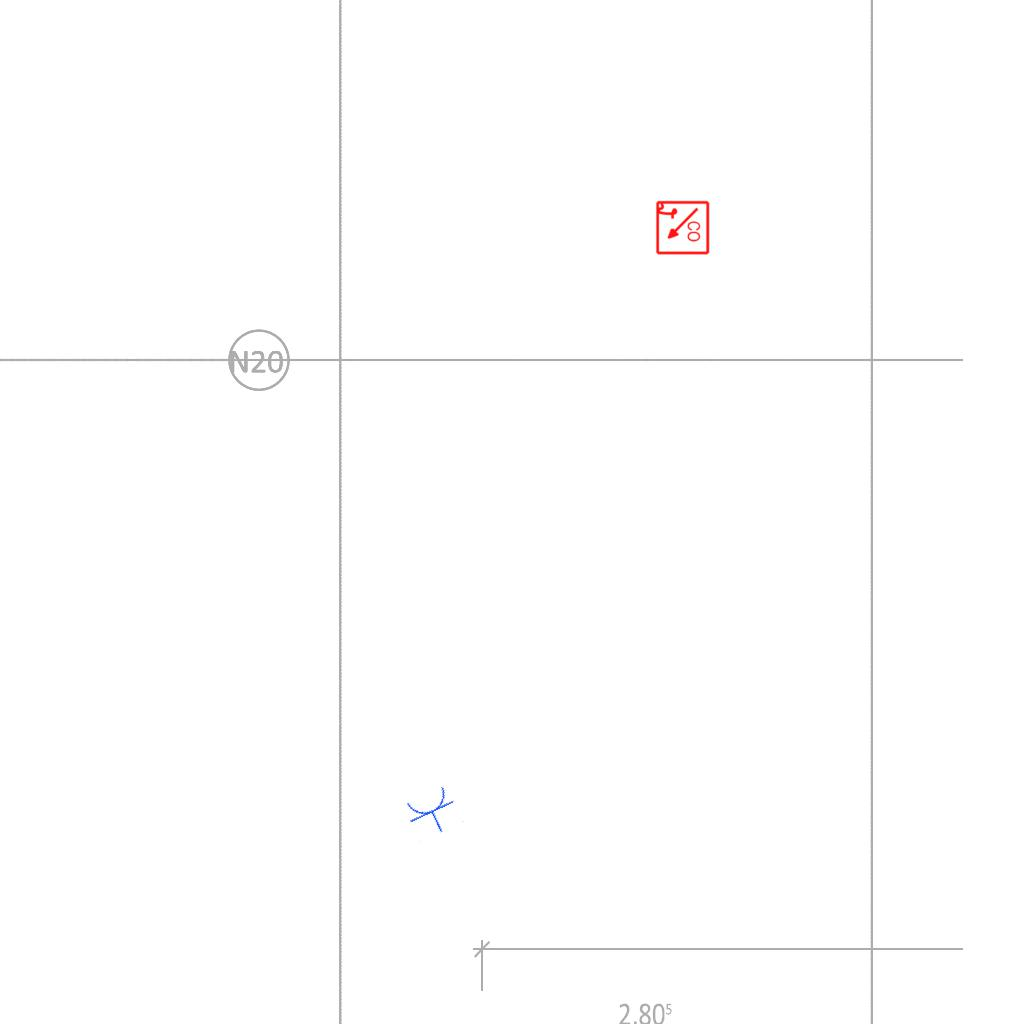ROA_Rauchmelder_optisch_mit_Signalgeber_(Sockelsirene): (654, 200, 710, 256)
Schukosteckdose_einfach: (401, 782, 465, 843)
